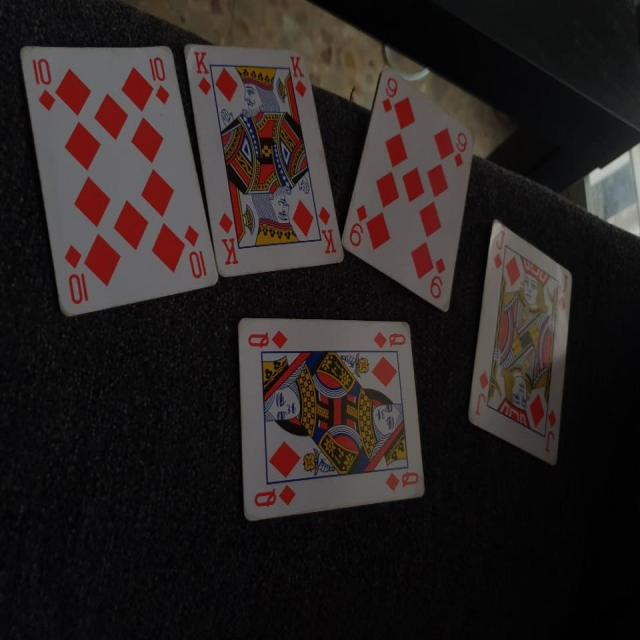10 Diamonds: (20, 42, 218, 317)
9 Diamonds: (339, 62, 474, 313)
J Diamonds: (467, 218, 574, 469)
K Diamonds: (183, 41, 346, 277)
Q Diamonds: (236, 314, 428, 521)
